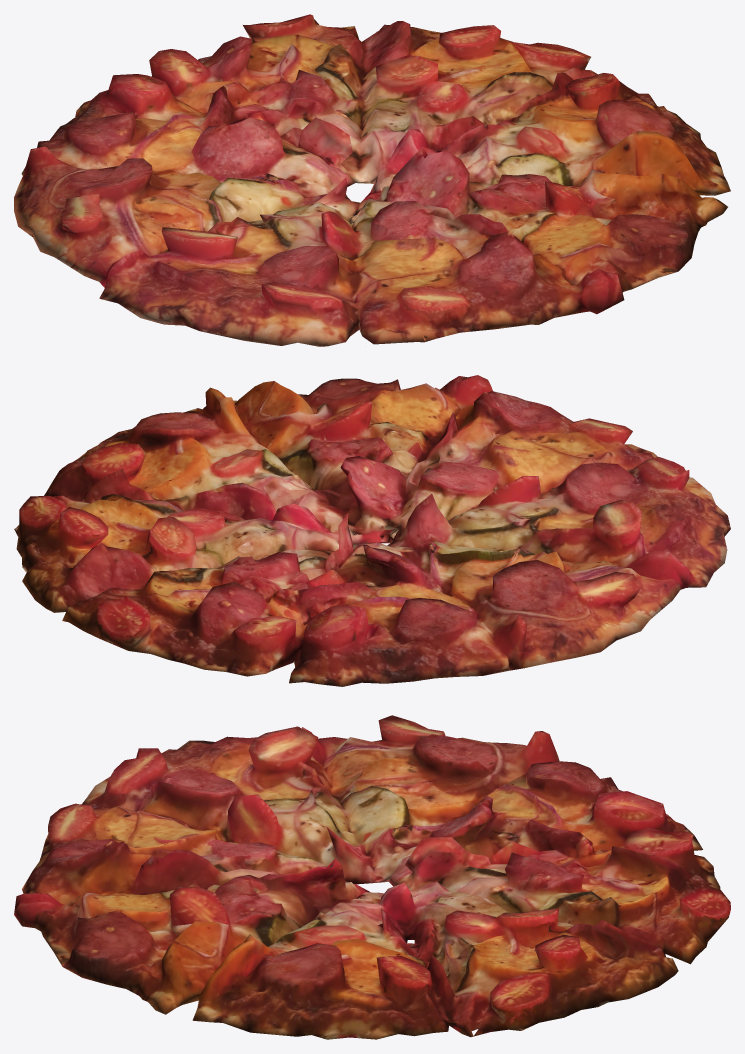
File: PIZZA.fbx
The picture shows the model from 3 angles, top to bottom: view 1: azimuth 30°, elevation 25°; view 2: azimuth 150°, elevation 25°; view 3: azimuth 270°, elevation 25°; orthographic projection. The views are drawn at different scales.
Parts seen in each view (by area): view 1: PIZZA_5K; view 2: PIZZA_5K; view 3: PIZZA_5K.
Part boxes in pixels (x1,y1,x2,y2): PIZZA_5K: [14, 14, 730, 346]; PIZZA_5K: [14, 375, 730, 686]; PIZZA_5K: [14, 715, 730, 1039].
Bounding box in the file's own units: 30.93 × 2.79 × 31.35.
1 material, 1 textured.
